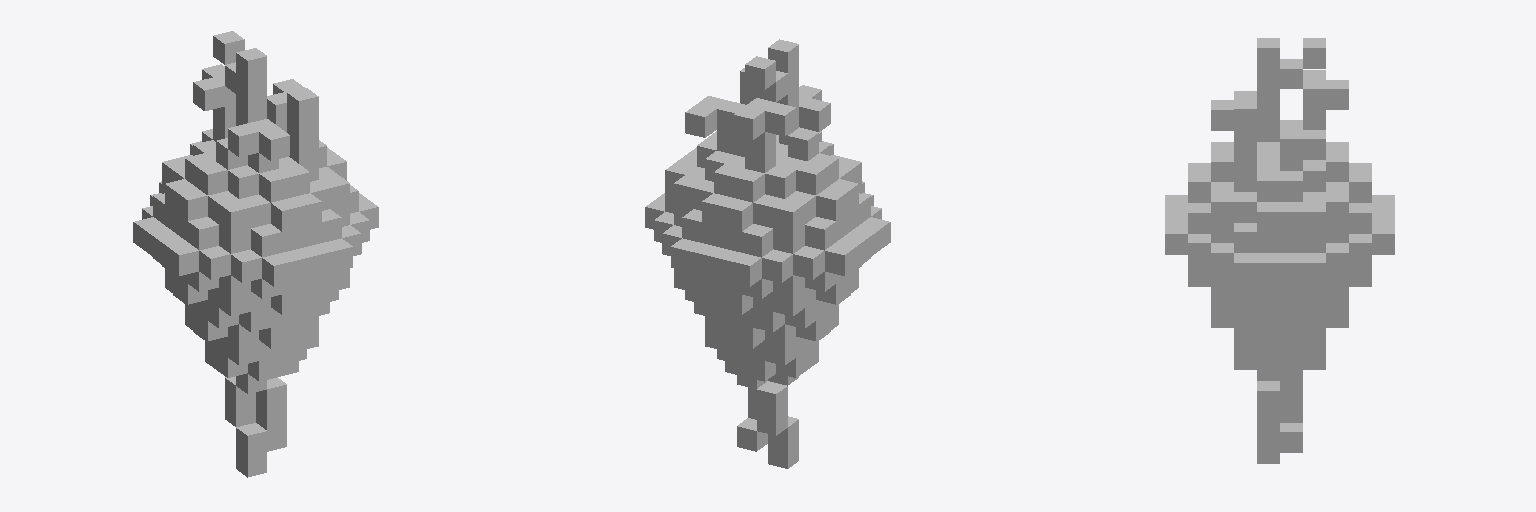
Rendered from carotte 20 x 20.obj.
3 renders of one model, left to right at view 1: azimuth 30°, elevation 25°; view 2: azimuth 150°, elevation 25°; view 3: azimuth 270°, elevation 25°, orthographic.
Visible parts, largest first — view 1: object 1; view 2: object 1; view 3: object 1.
Boxes of the visible parts, x1,y1,x2,y2 form: object 1: [133, 31, 378, 477]; object 1: [645, 39, 890, 468]; object 1: [1165, 38, 1394, 463].
Bounding box in the file's own units: 1 × 2 × 1.